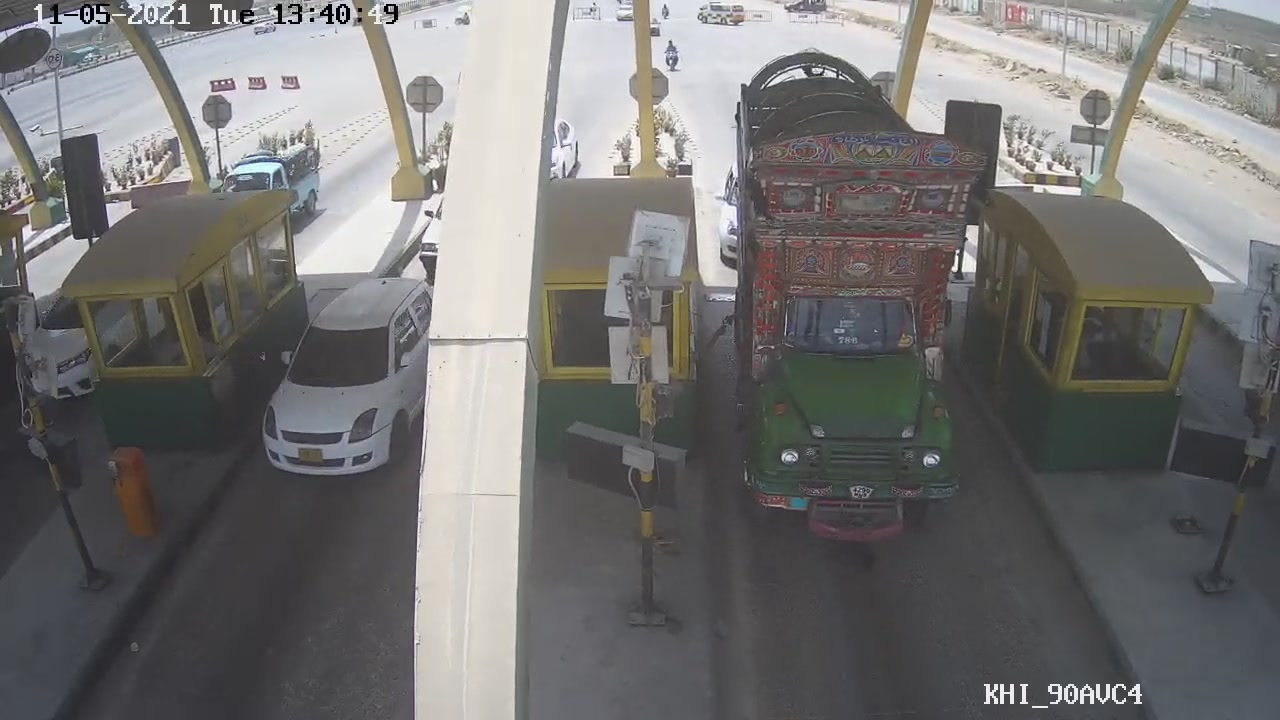F5: (730, 62, 978, 538)
